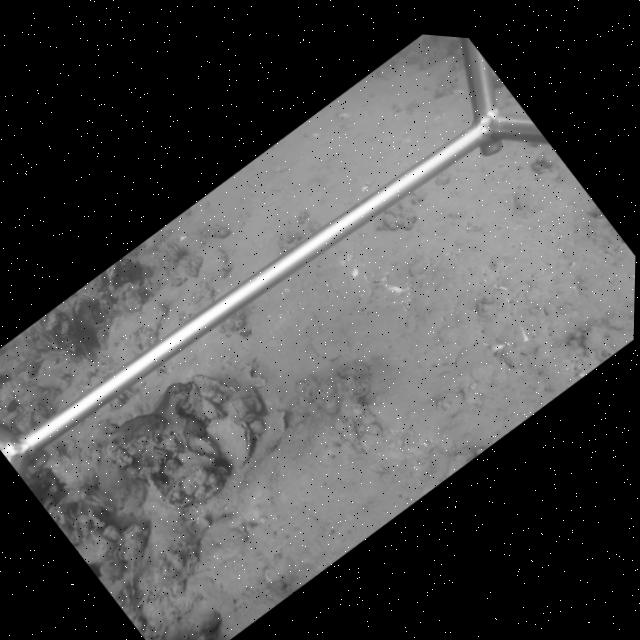Oyster-Closed: (204, 416, 254, 472), (191, 371, 237, 405), (145, 474, 183, 515)
